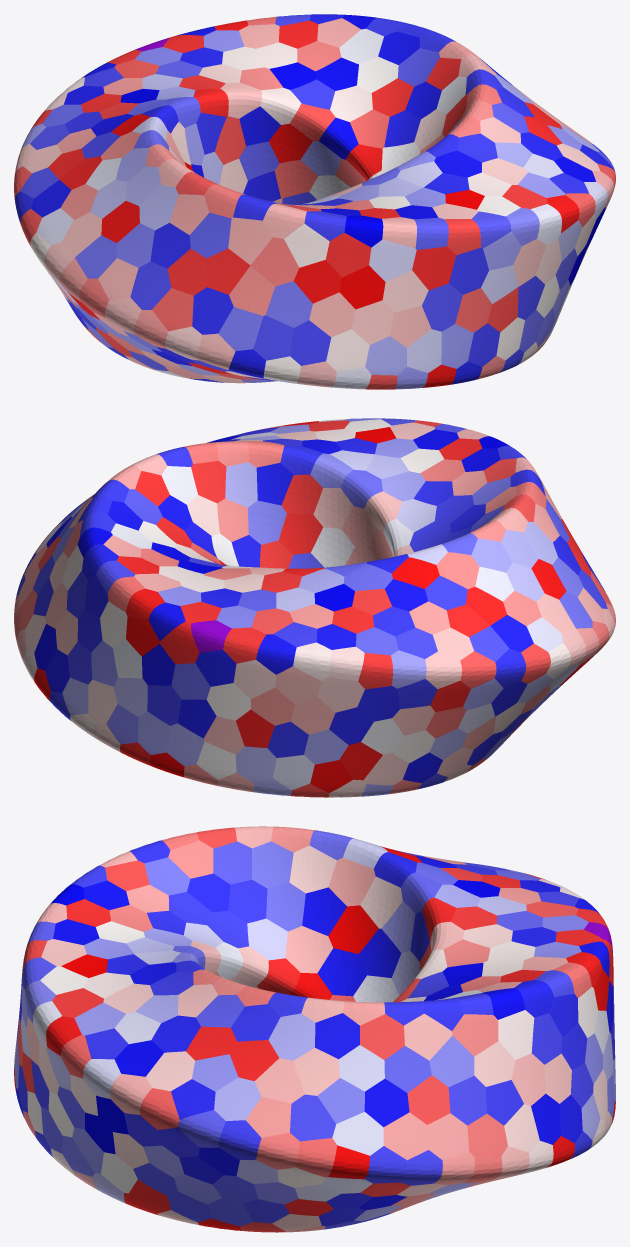
File: Ours_600_mobius1_Iter24_RVD.obj
3 renders of one model, top to bottom at view 1: azimuth 30°, elevation 25°; view 2: azimuth 150°, elevation 25°; view 3: azimuth 270°, elevation 25°, orthographic. The views are drawn at different scales.
Visible parts, largest first — view 1: 3D_Object; view 2: 3D_Object; view 3: 3D_Object.
Boxes of the visible parts, box(x1,y1,x2,y2) form: 3D_Object: box(14, 14, 615, 389); 3D_Object: box(14, 418, 615, 797); 3D_Object: box(14, 826, 615, 1232).
Size of the model in its own units: 6.8 by 2.63 by 6.26.
Materials: 1 (1 with a texture image).
